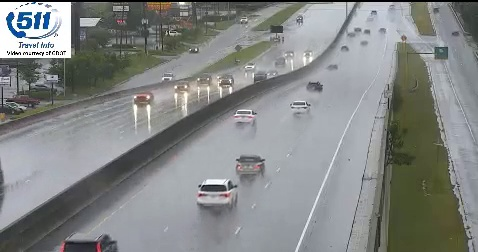car: (197, 178, 236, 207), (236, 155, 264, 176), (234, 109, 257, 124), (290, 100, 309, 115), (306, 80, 322, 93)
